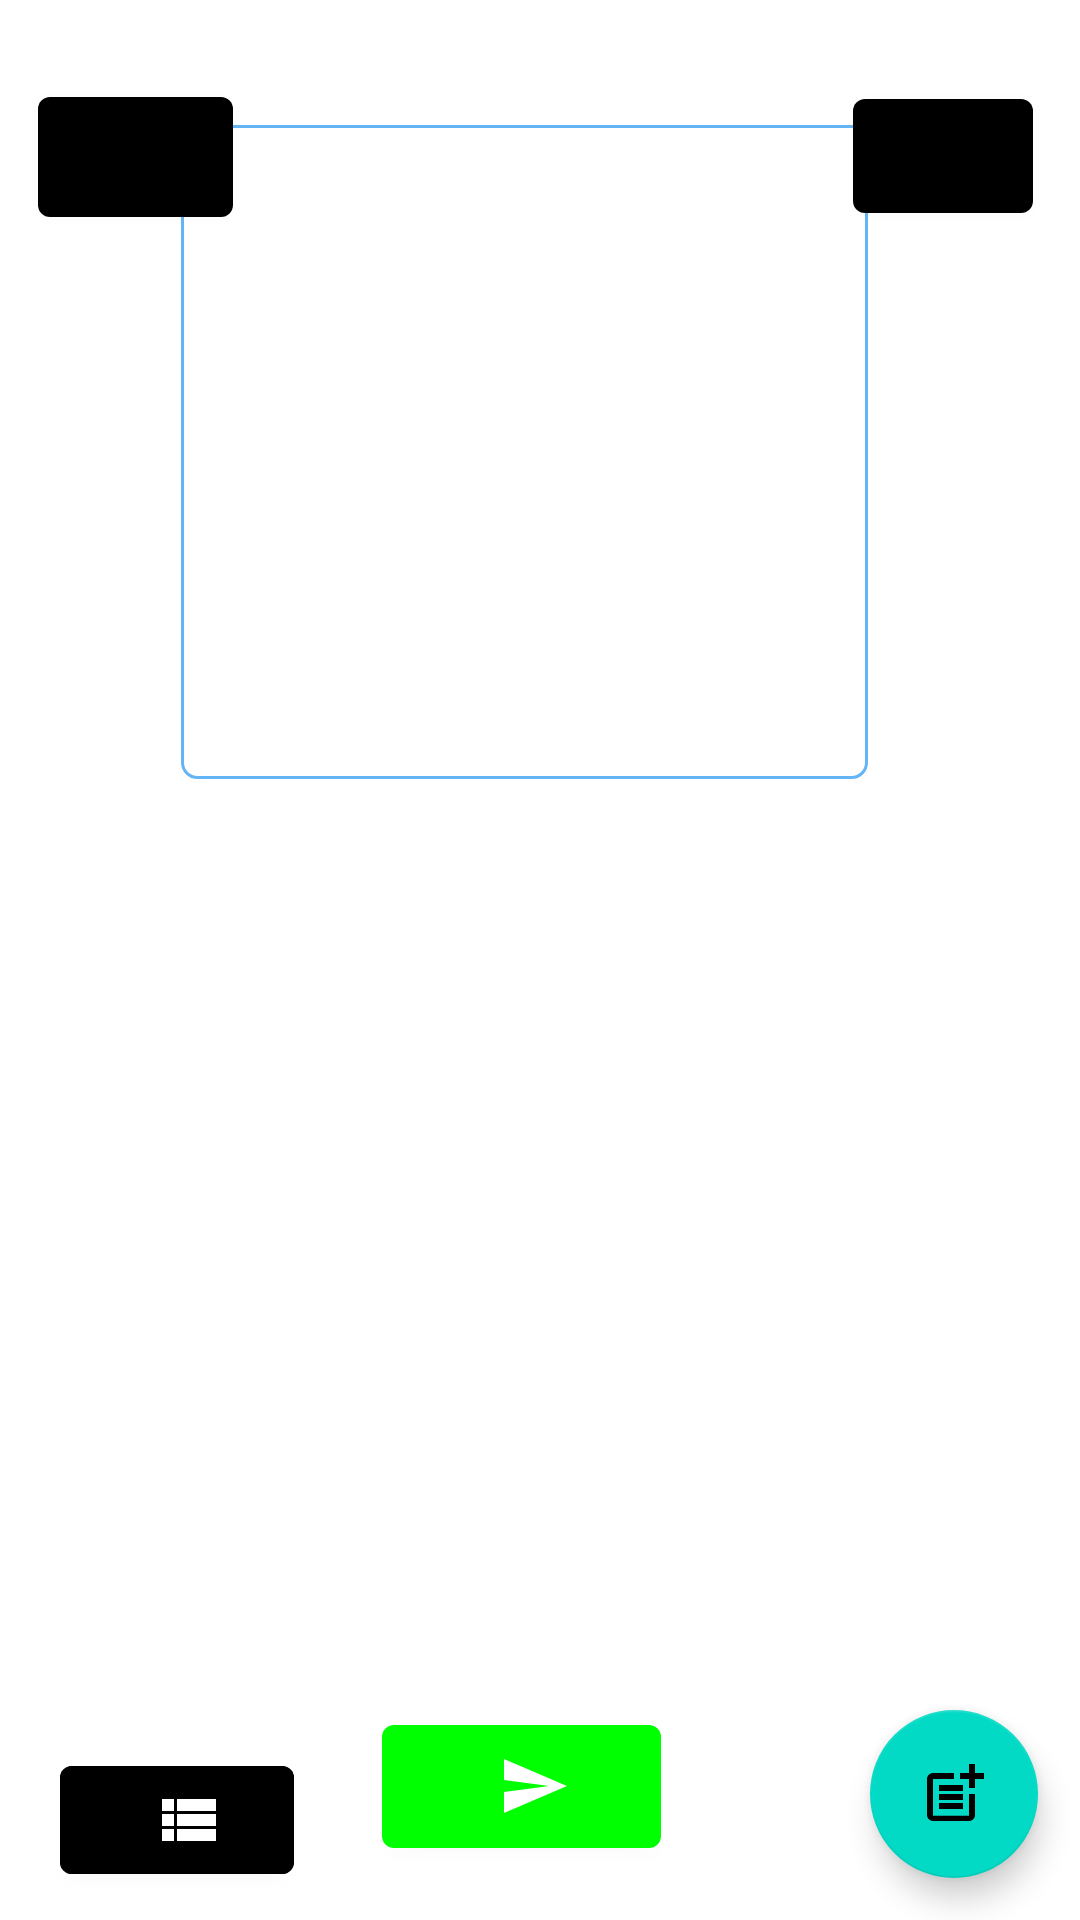

Icon click points for this 1080×1920 phone screenshot, format point (x, y):
post add: point (954, 1794)
send: point (521, 1786)
